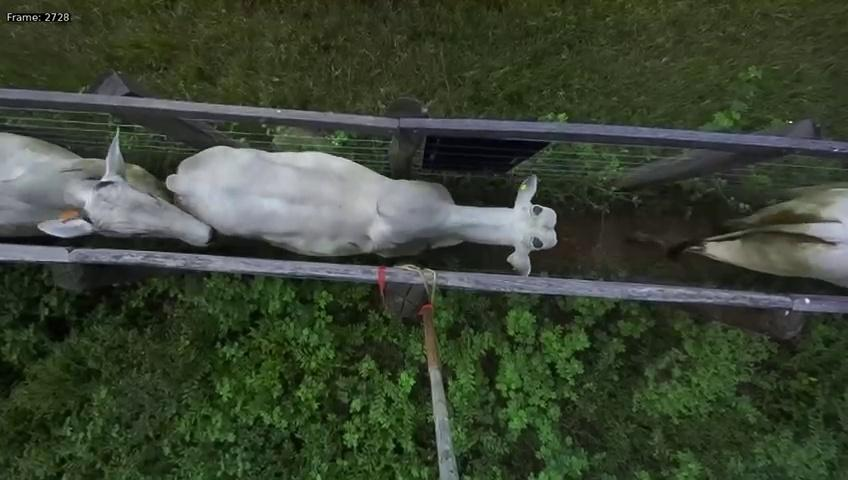cattle: (163, 126, 560, 276)
